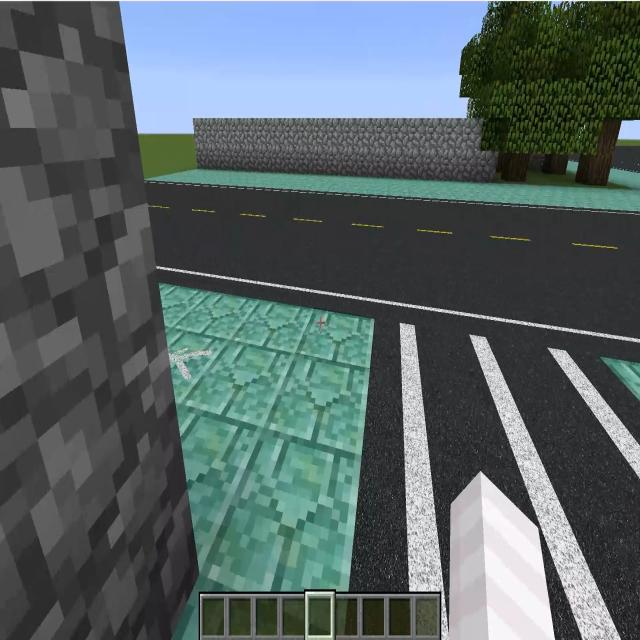crosswalk: (353, 307, 637, 639)
road: (154, 187, 640, 347)
sidewalk: (160, 284, 374, 590), (146, 165, 640, 211)
